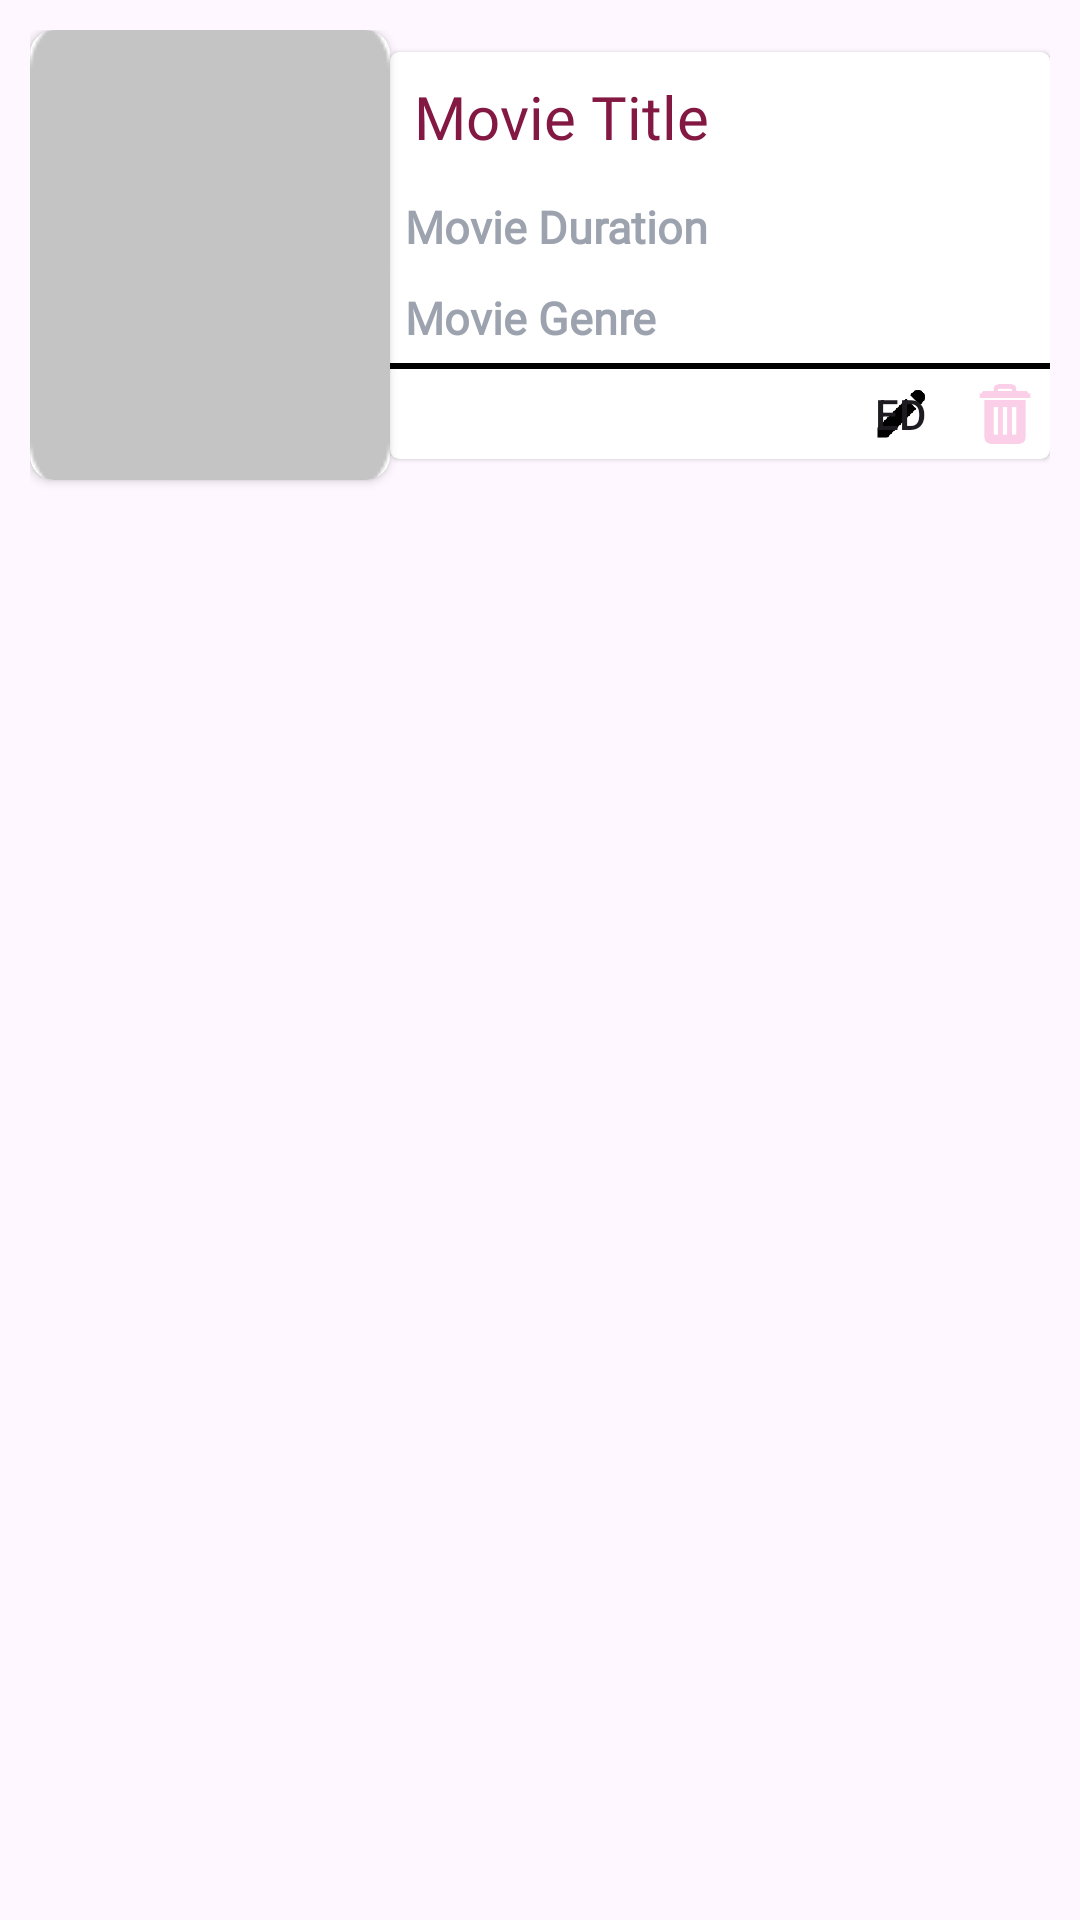

Locate icon controls on the screen. Image size 1080×1920, boxes as detection(x1, y1, x2, y2).
trash: detection(980, 384, 1030, 444)
